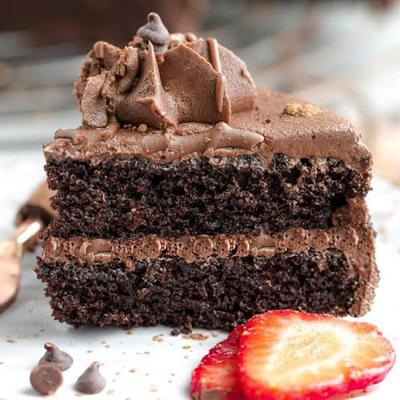cake: (38, 14, 377, 322)
